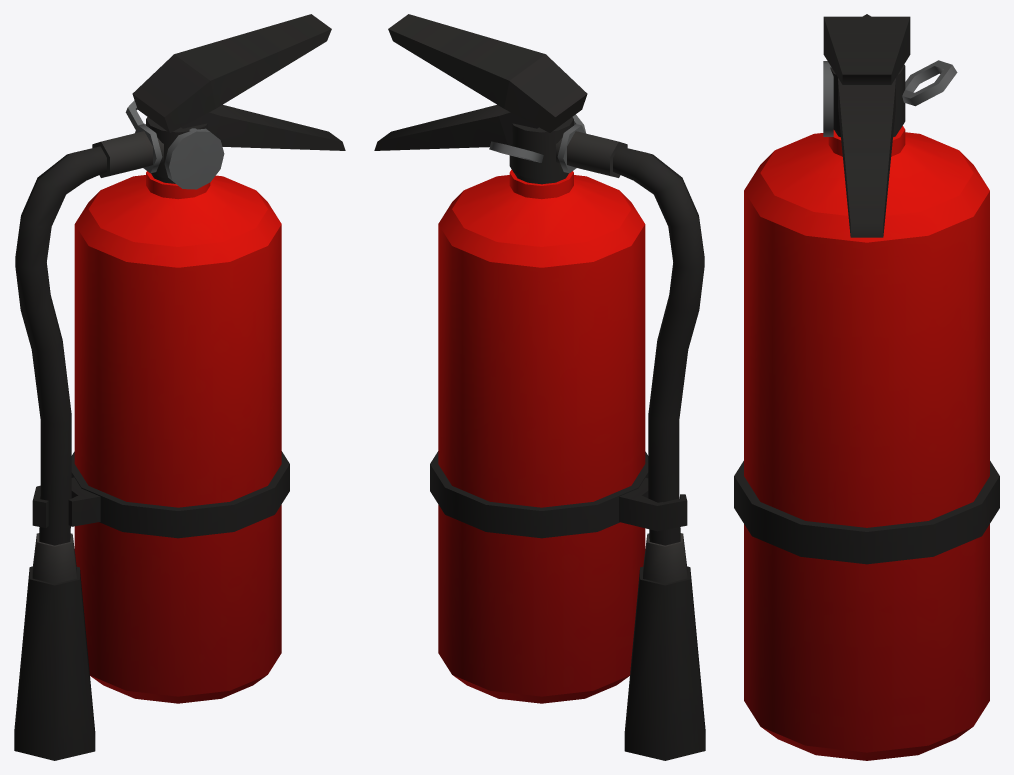
The model's file is Fire_Extinguisher.fbx.
3 renders of one model, left to right at view 1: azimuth 30°, elevation 25°; view 2: azimuth 150°, elevation 25°; view 3: azimuth 270°, elevation 25°, orthographic. The views are drawn at different scales.
Parts seen in each view (by area): view 1: Fire_Extinguisher; view 2: Fire_Extinguisher; view 3: Fire_Extinguisher.
Boxes of the visible parts, x1,y1,x2,y2 form: Fire_Extinguisher: [14, 14, 345, 760]; Fire_Extinguisher: [374, 14, 705, 760]; Fire_Extinguisher: [734, 14, 999, 760].
Bounding box in the file's own units: 41.91 × 80.85 × 24.99.
